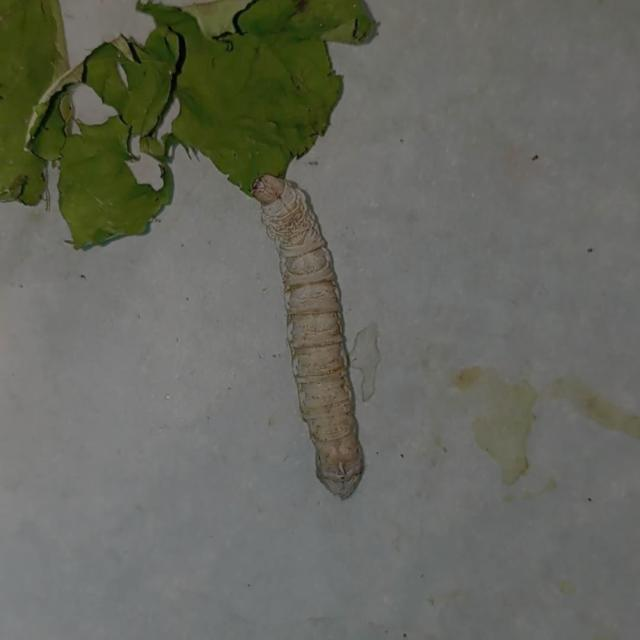Grasserie: (221, 145, 407, 522)
